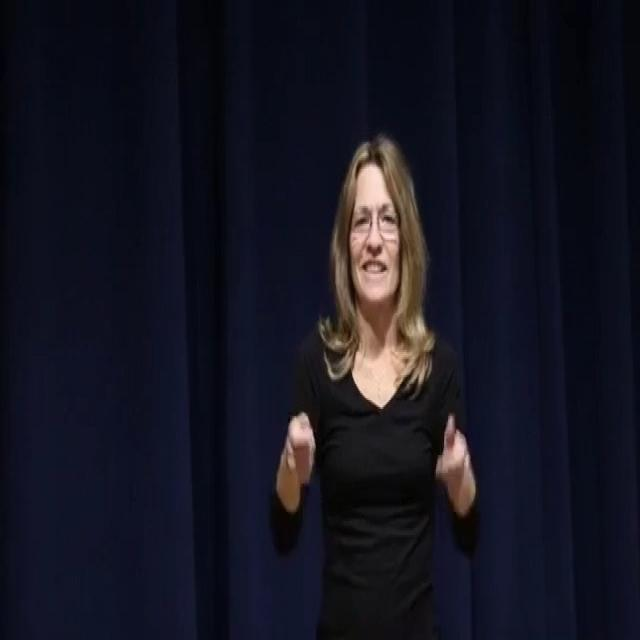manager: (268, 396, 482, 546)
